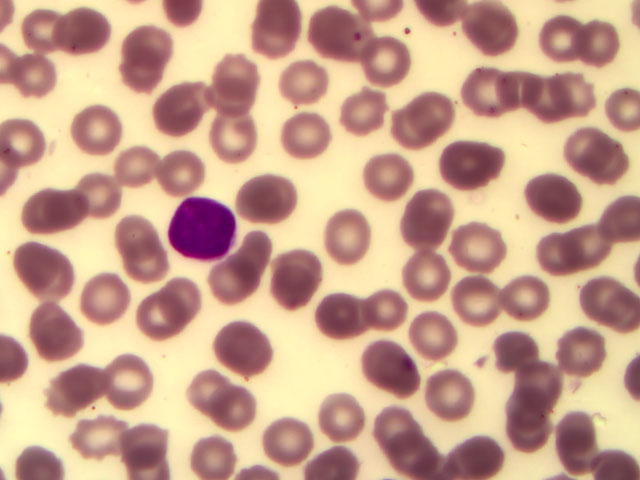RBC: (56, 7, 109, 57), (14, 8, 67, 58), (8, 51, 61, 101), (69, 103, 122, 153), (1, 121, 54, 171), (9, 183, 62, 233), (44, 185, 97, 235), (73, 171, 126, 221), (105, 143, 158, 193), (147, 147, 200, 197), (156, 80, 209, 130), (112, 47, 165, 97), (122, 23, 175, 73), (207, 47, 260, 97), (209, 73, 262, 123), (208, 114, 261, 164), (239, 173, 292, 223), (114, 211, 167, 261), (124, 234, 177, 284), (77, 270, 130, 320), (12, 236, 65, 286), (29, 250, 82, 300), (24, 303, 77, 353), (48, 361, 101, 411), (100, 355, 153, 405), (70, 412, 123, 462), (188, 367, 241, 417), (214, 389, 267, 439), (132, 295, 185, 345), (152, 275, 205, 325), (199, 259, 252, 309), (236, 226, 289, 276), (271, 238, 324, 288), (277, 264, 330, 314), (321, 212, 374, 262), (364, 152, 417, 202), (282, 111, 335, 161), (278, 58, 331, 108), (306, 11, 359, 61), (333, 22, 386, 72), (369, 37, 422, 87), (333, 94, 386, 144), (383, 102, 436, 152), (414, 79, 467, 129), (450, 62, 503, 112), (494, 69, 547, 119), (516, 75, 569, 125), (548, 67, 601, 117), (541, 14, 594, 64), (571, 11, 624, 61), (463, 6, 516, 56), (587, 90, 640, 140), (565, 125, 618, 175), (528, 169, 581, 219), (443, 139, 496, 189), (403, 193, 456, 243), (451, 222, 504, 272), (400, 251, 453, 301), (363, 279, 416, 329), (316, 292, 369, 342), (356, 336, 409, 386), (407, 307, 460, 357), (451, 276, 504, 326), (493, 271, 546, 321), (525, 228, 578, 278), (561, 221, 614, 271), (587, 194, 640, 244), (578, 274, 631, 324), (558, 326, 611, 376), (485, 325, 538, 375), (514, 356, 567, 406), (509, 391, 562, 441), (555, 414, 608, 464), (430, 374, 483, 424), (370, 401, 423, 451), (388, 426, 441, 476), (311, 393, 364, 443), (261, 415, 314, 465), (193, 430, 246, 480), (119, 419, 172, 469)
WBC: (170, 191, 237, 263)
